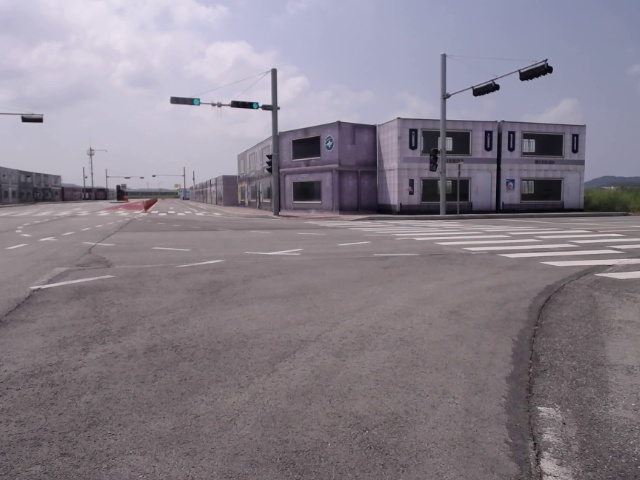straight_green_4: (231, 100, 260, 109), (170, 98, 201, 105)
